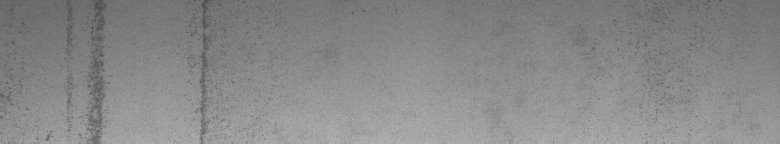hd: (186, 4, 230, 136)
